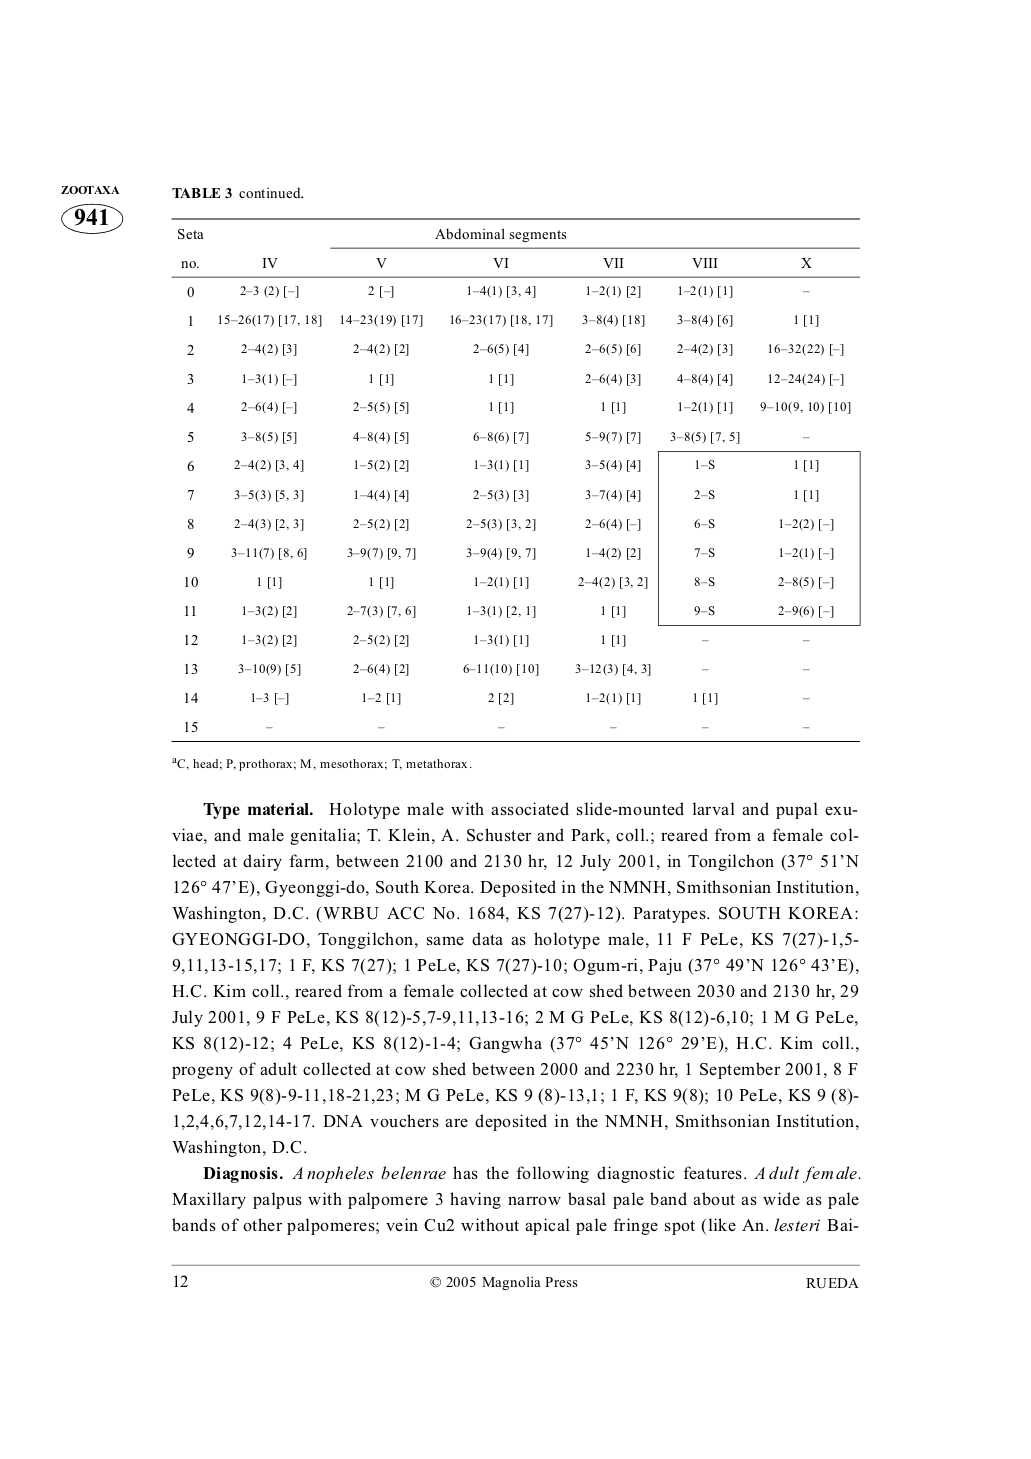Table: (171, 218, 860, 741)
figure: (61, 186, 123, 233)
